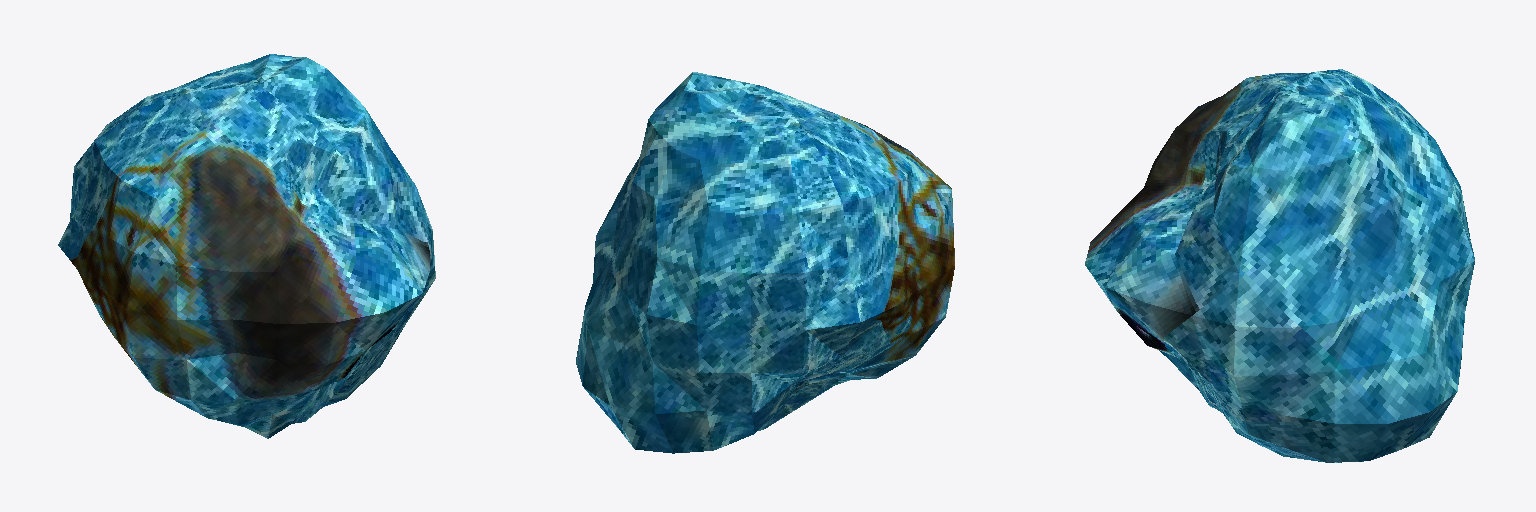
3 renders of one model, left to right at view 1: azimuth 30°, elevation 25°; view 2: azimuth 150°, elevation 25°; view 3: azimuth 270°, elevation 25°, orthographic.
Visible parts, largest first — view 1: Stone_2_; view 2: Stone_2_; view 3: Stone_2_.
Part boxes in pixels (x1,y1,x2,y2): Stone_2_: (58, 54, 435, 438); Stone_2_: (576, 72, 954, 453); Stone_2_: (1085, 69, 1474, 462).
Bounding box in the file's own units: 159 × 167 × 170.
1 materials, 1 textured.